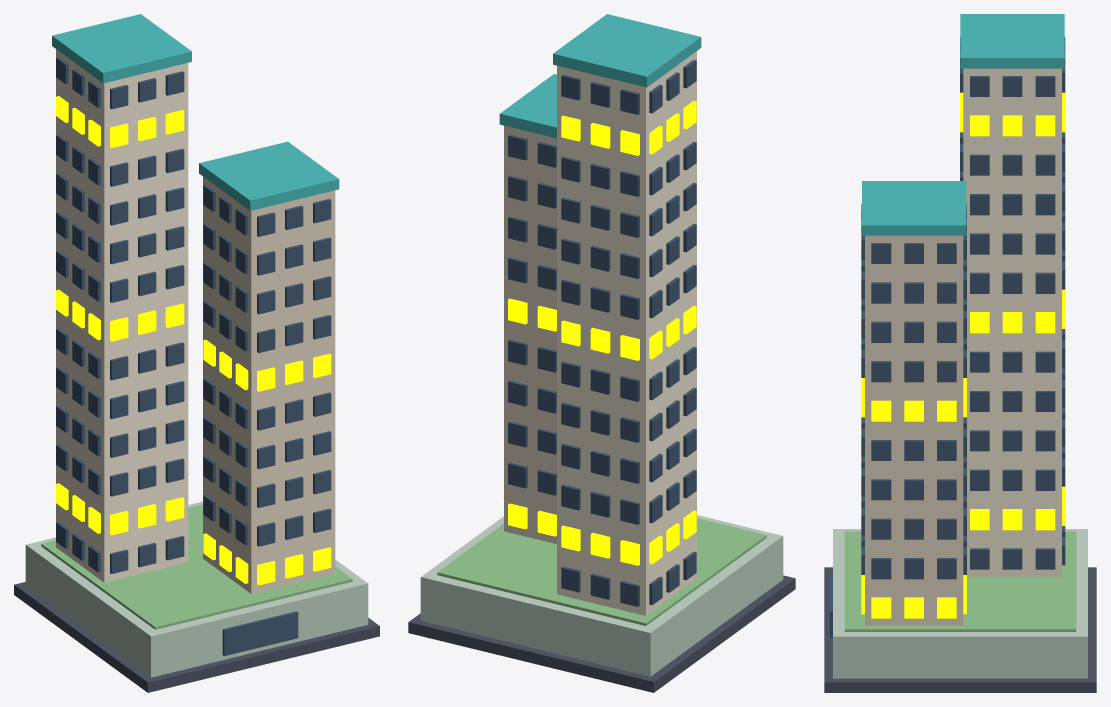
File: tower_twin.glb
3 views of the same model, side by side, from view 1: azimuth 30°, elevation 25°; view 2: azimuth 150°, elevation 25°; view 3: azimuth 270°, elevation 25° (orthographic). The views are drawn at different scales.
Parts seen in each view (by area): view 1: tower_twin_body; view 2: tower_twin_body; view 3: tower_twin_body.
Part boxes in pixels (x1,y1,x2,y2): tower_twin_body: (14,14,379,692); tower_twin_body: (408,14,795,692); tower_twin_body: (824,14,1096,692).
Size of the model in its own units: 0.94 by 2.19 by 0.94.
